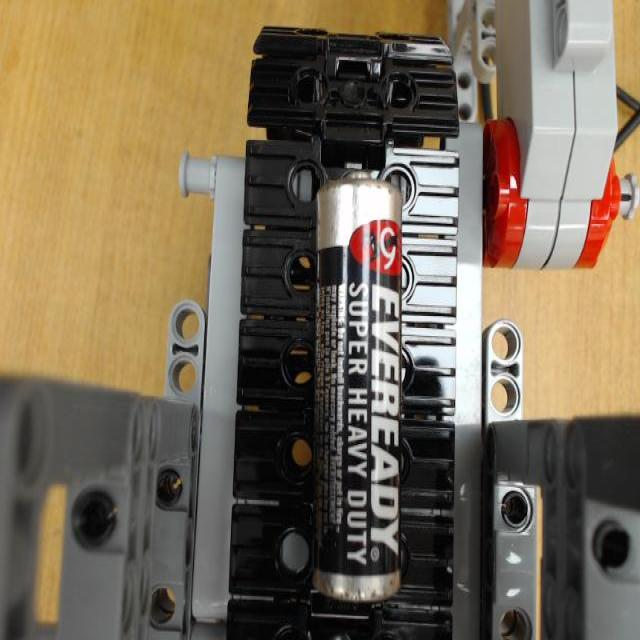AA: (312, 165, 404, 603)
